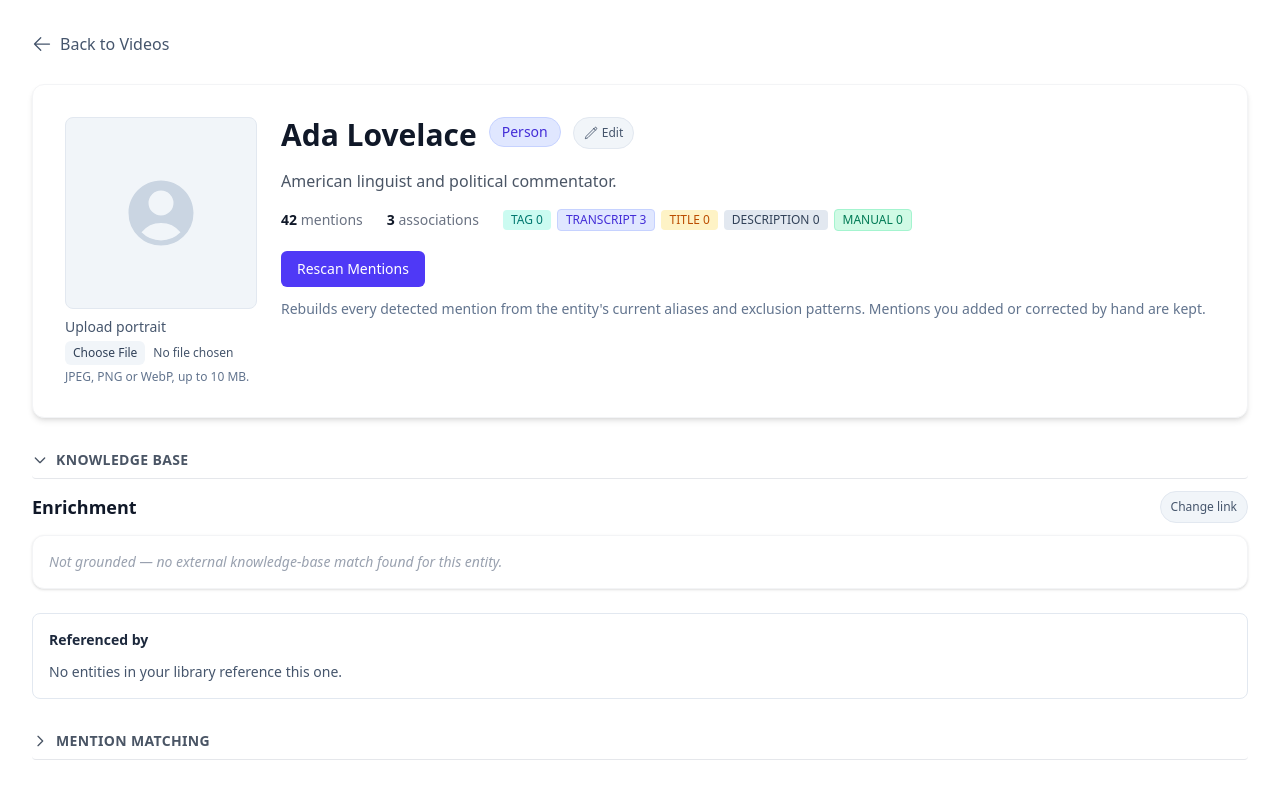
Test: AddAliasForm (inside EntityDetailPage) › Test 4 — Duplicate alias error (409) › shows the accents-and-case-ignored message on a 409 error
This screenshot has width=1280, height=785.
Click the button "Mention matching": click(133, 740) [32,723,1248,760]
(page scrolled)
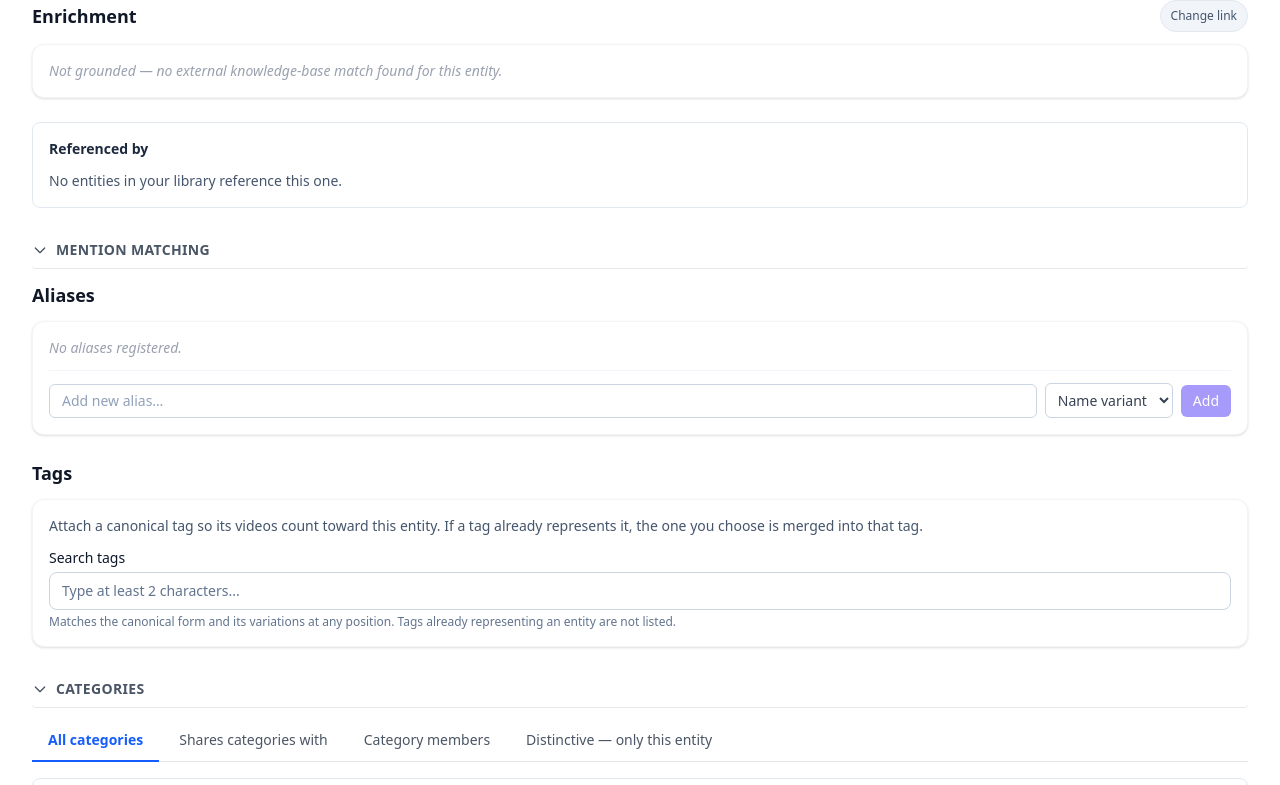
In the field named "alias name": (543, 400) [49,384,1037,418], type "duplicate-alias"
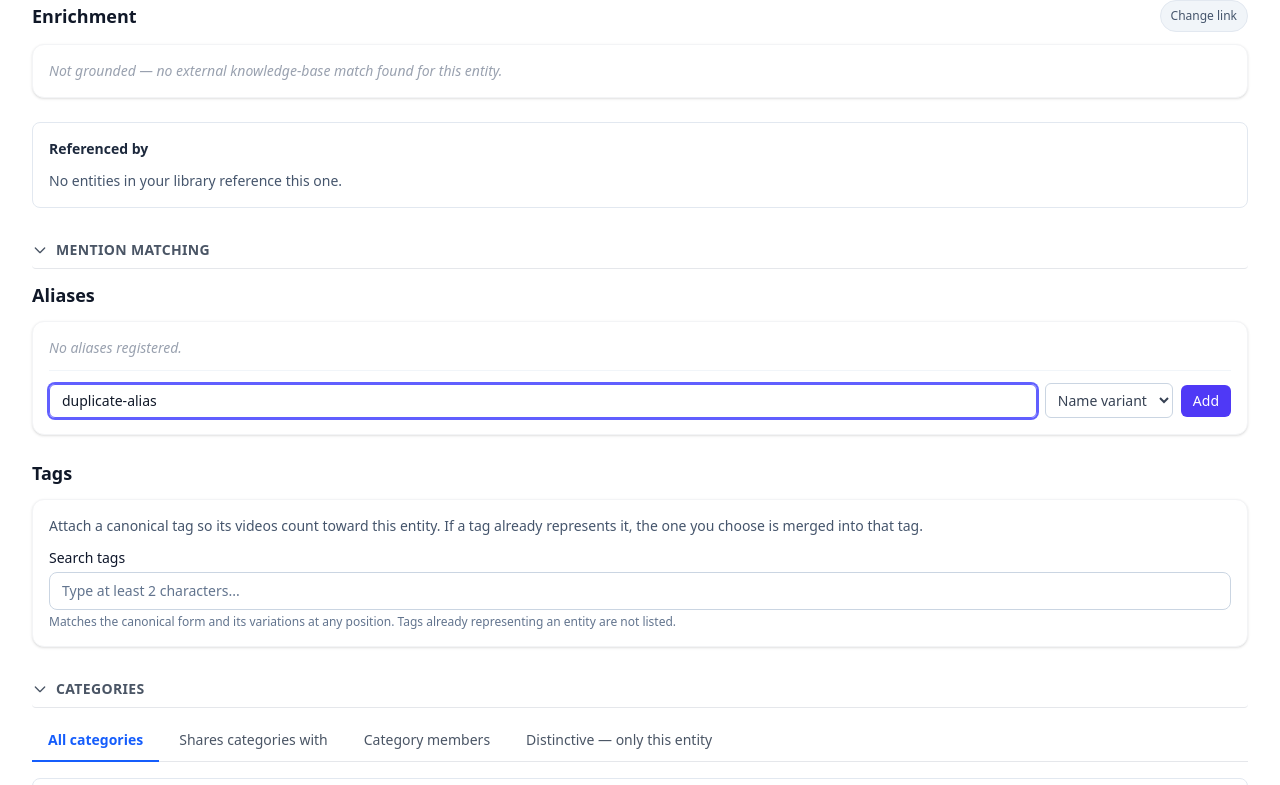
Click the button "Add": click(1206, 400) [1181,384,1231,416]
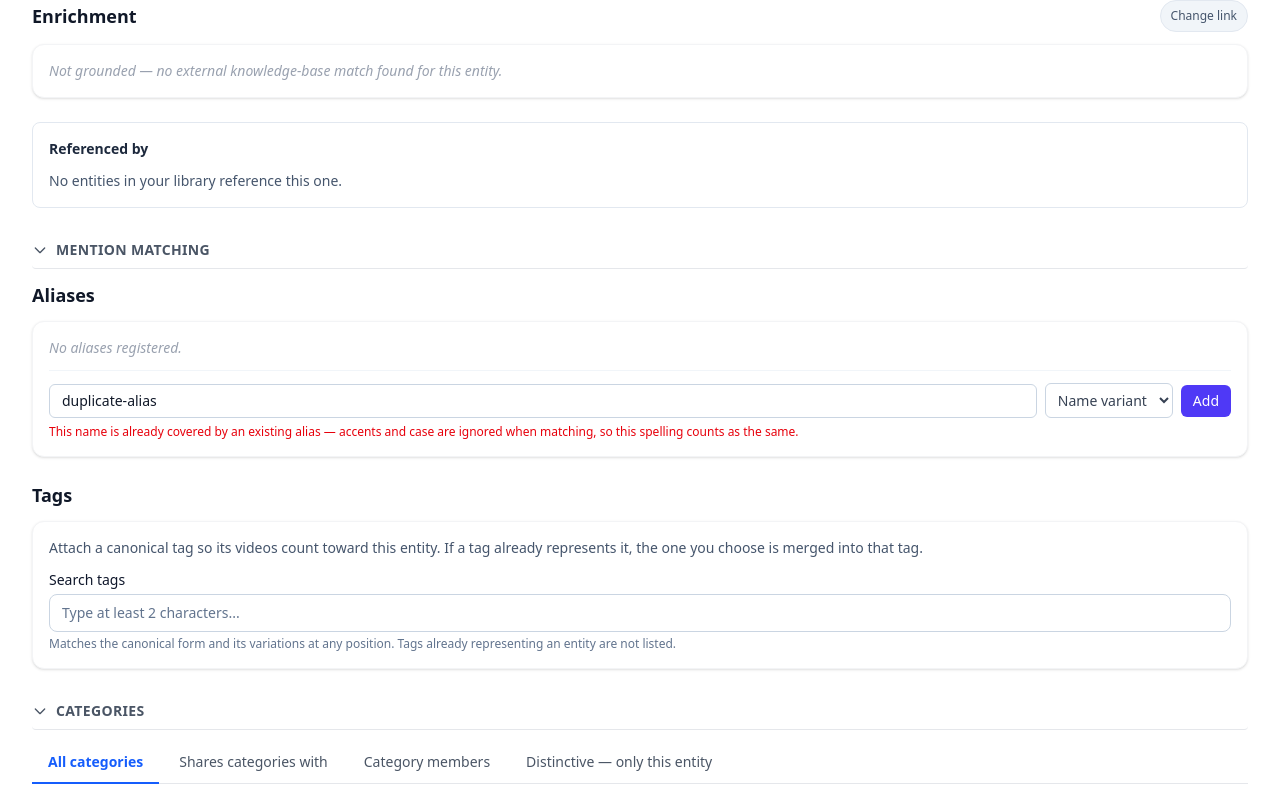
Check: the text "already covered by an existing alias" is shown, box [49,423,799,440]
